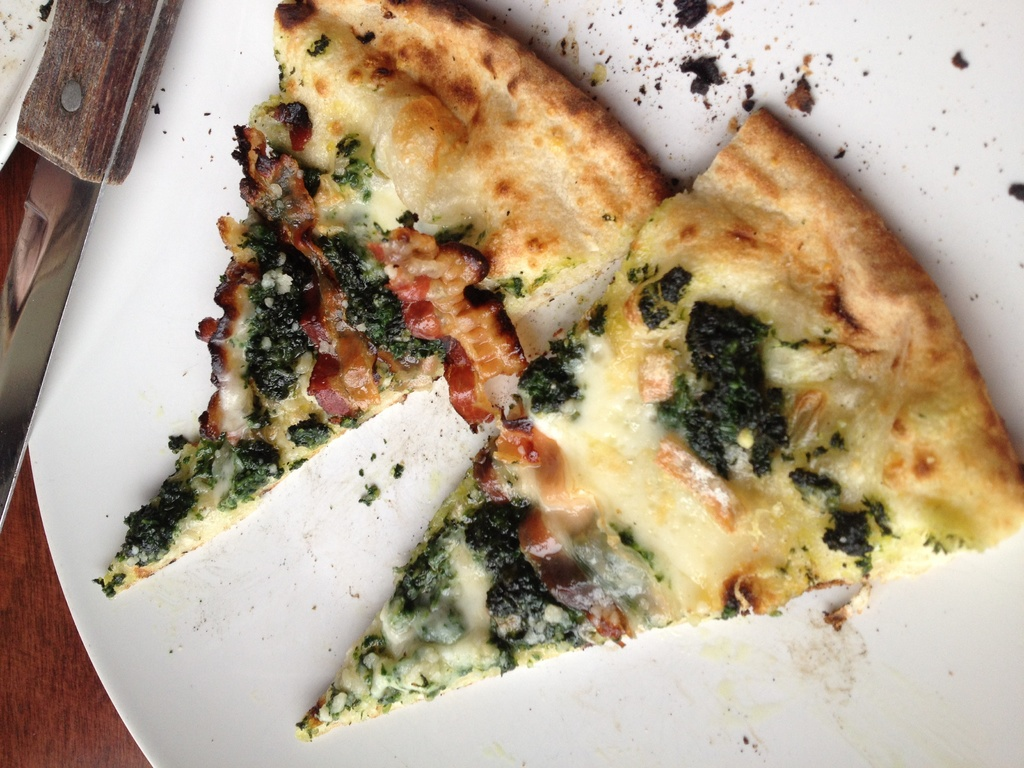Pizza: (101, 0, 672, 590)
